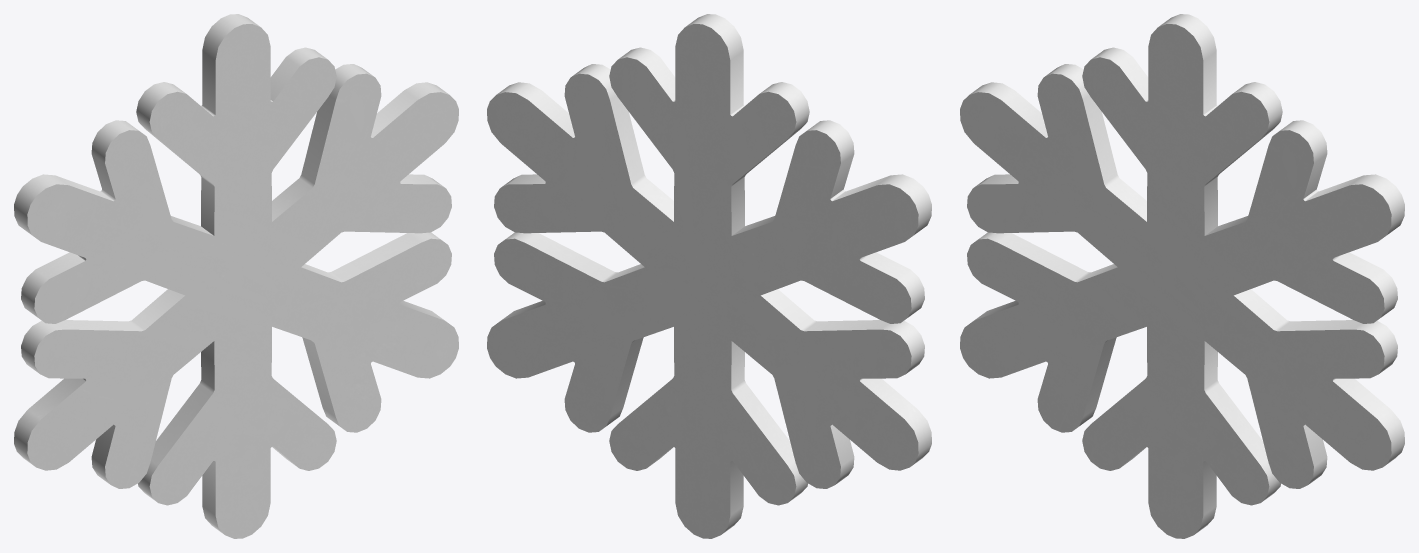
The model's file is com.demensdeum.snowflake.model.glb.
3 views of the same model, side by side, from view 1: azimuth 30°, elevation 25°; view 2: azimuth 150°, elevation 25°; view 3: azimuth 330°, elevation 25° (orthographic).
Visible parts, largest first — view 1: Snowflake; view 2: Snowflake; view 3: Snowflake.
Part boxes in pixels (left/top/right/bottom): Snowflake: left=14, top=14, right=458, bottom=538; Snowflake: left=487, top=14, right=931, bottom=538; Snowflake: left=960, top=14, right=1404, bottom=538.
Bounding box in the file's own units: 0.0792 × 0.0901 × 0.00427.
1 material, 1 textured.
